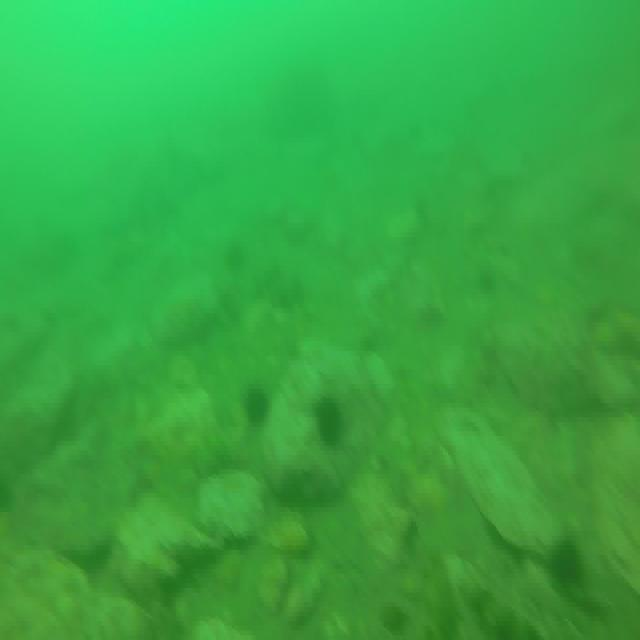echinus: (317, 394, 346, 451), (551, 530, 582, 582), (246, 386, 271, 424)
